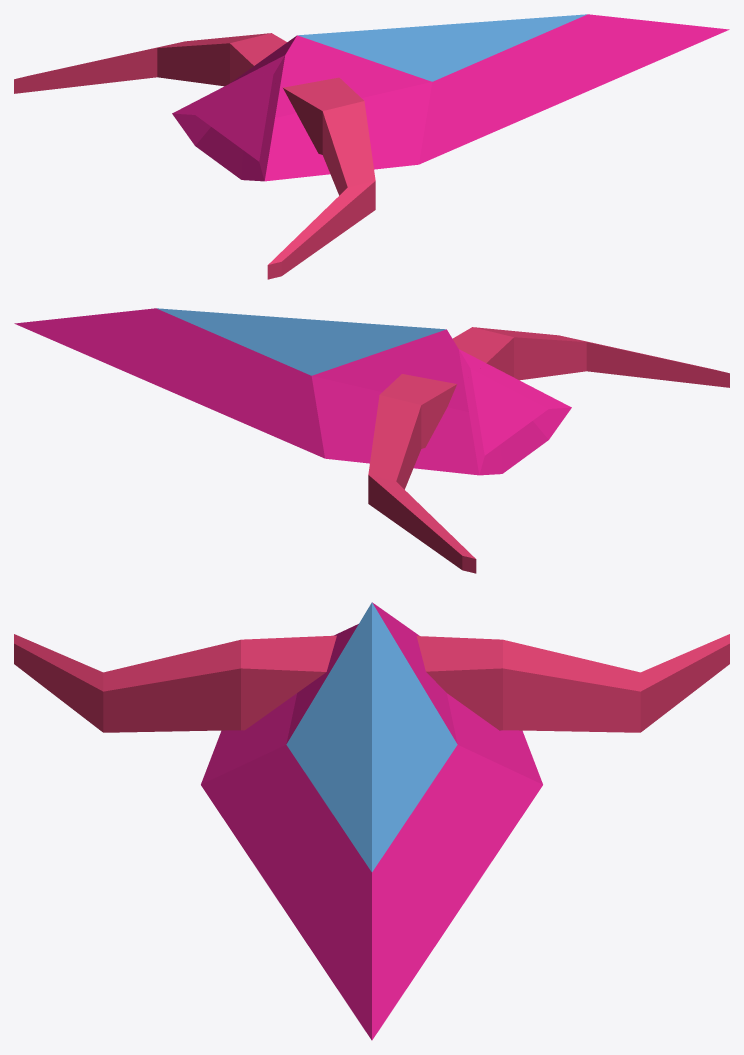
Rendered from SpaceShip3.fbx.
3 views of the same model, one above another, from view 1: azimuth 30°, elevation 25°; view 2: azimuth 150°, elevation 25°; view 3: azimuth 270°, elevation 25° (orthographic). The views are drawn at different scales.
Visible parts, largest first — view 1: Cube; view 2: Cube; view 3: Cube.
Boxes of the visible parts, box(x1,y1,x2,y2) form: Cube: box(14, 14, 729, 279); Cube: box(14, 308, 729, 573); Cube: box(14, 602, 729, 1040).
Size of the model in its own units: 792 by 148 by 591.
